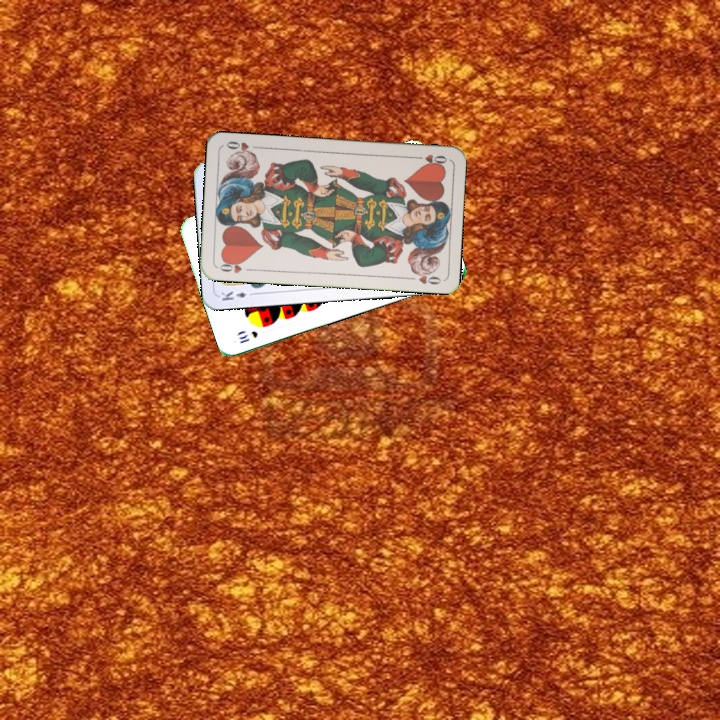EK: (217, 287, 257, 303)
HO: (214, 256, 255, 276), (410, 150, 450, 168)
S10: (235, 327, 260, 346)
